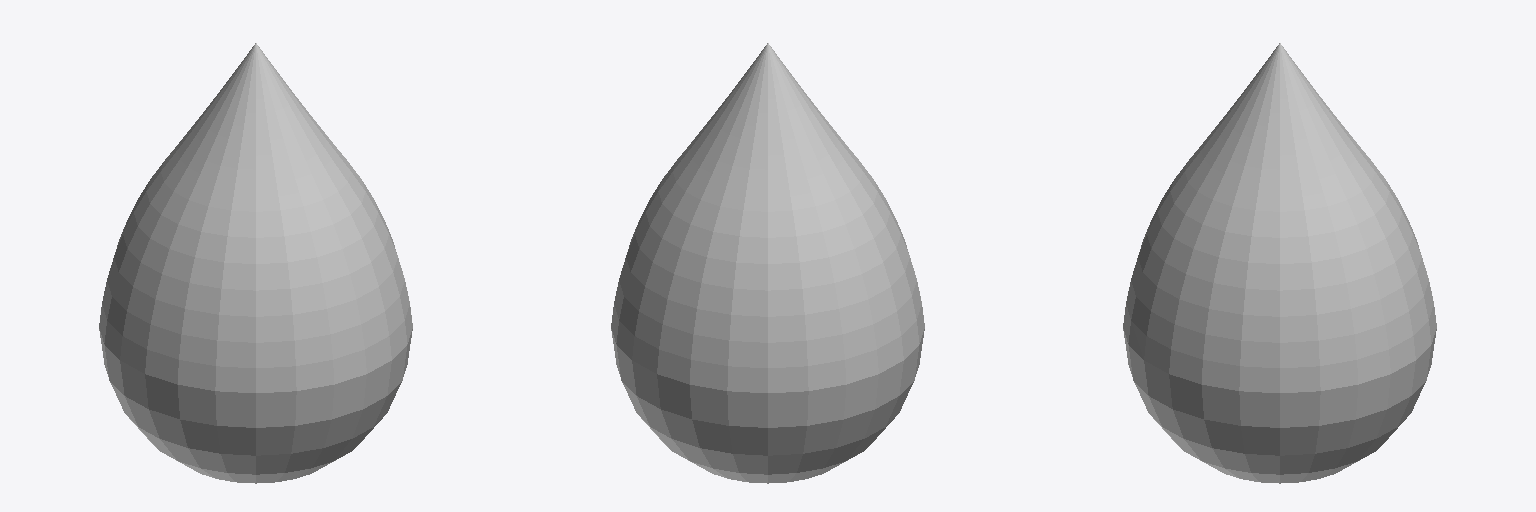
File: water drop.obj
The picture shows the model from 3 angles: view 1: azimuth 30°, elevation 25°; view 2: azimuth 150°, elevation 25°; view 3: azimuth 270°, elevation 25°; orthographic projection.
Parts seen in each view (by area): view 1: Mesh1 Group1 Model; view 2: Mesh1 Group1 Model; view 3: Mesh1 Group1 Model.
Part boxes in pixels (x1,y1,x2,y2): Mesh1 Group1 Model: (99, 43, 412, 483); Mesh1 Group1 Model: (611, 43, 924, 483); Mesh1 Group1 Model: (1123, 43, 1436, 483).
Bounding box in the file's own units: 72 × 108 × 72.